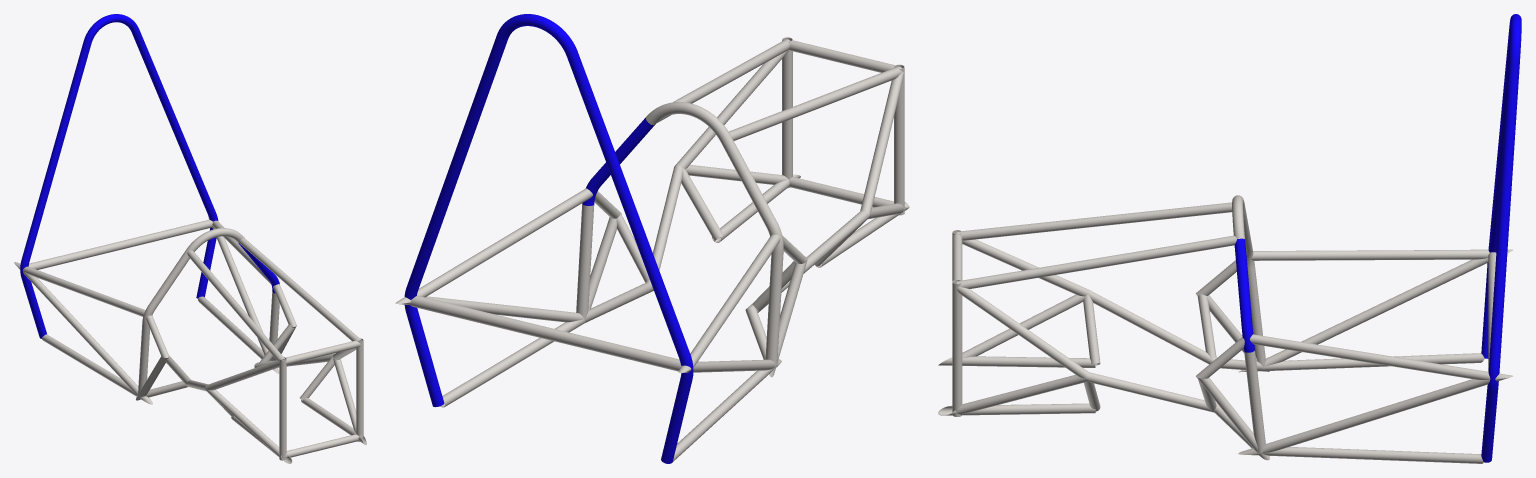
Rendered from 25-ch-004-chassis.gltf.
3 renders of one model, left to right at view 1: azimuth 30°, elevation 25°; view 2: azimuth 150°, elevation 25°; view 3: azimuth 270°, elevation 25°, orthographic. The views are drawn at different scales.
Parts seen in each view (by area): view 1: 25-CH-004-Chassis; view 2: 25-CH-004-Chassis; view 3: 25-CH-004-Chassis.
Part boxes in pixels (<box>): 25-CH-004-Chassis: <box>14,14,366,463</box>; 25-CH-004-Chassis: <box>395,14,909,463</box>; 25-CH-004-Chassis: <box>938,14,1521,463</box>.
Size of the model in its own units: 0.7863 by 1.14 by 1.51.
